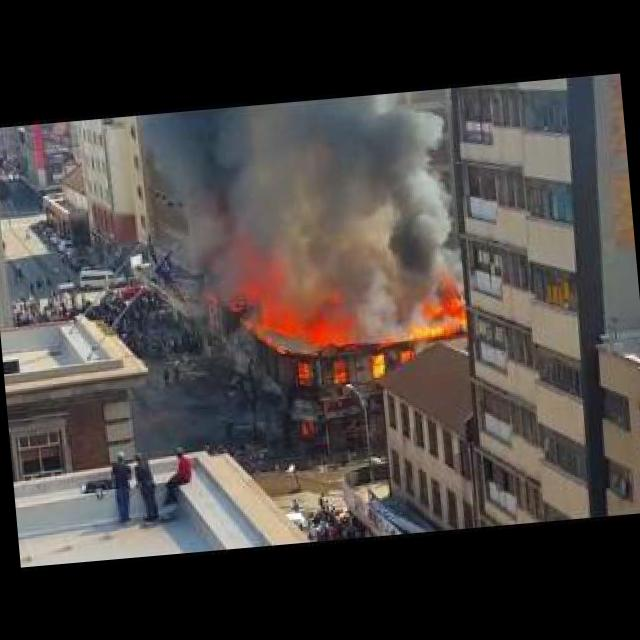Fire: (233, 272, 472, 362)
Smoke: (144, 70, 448, 290)
